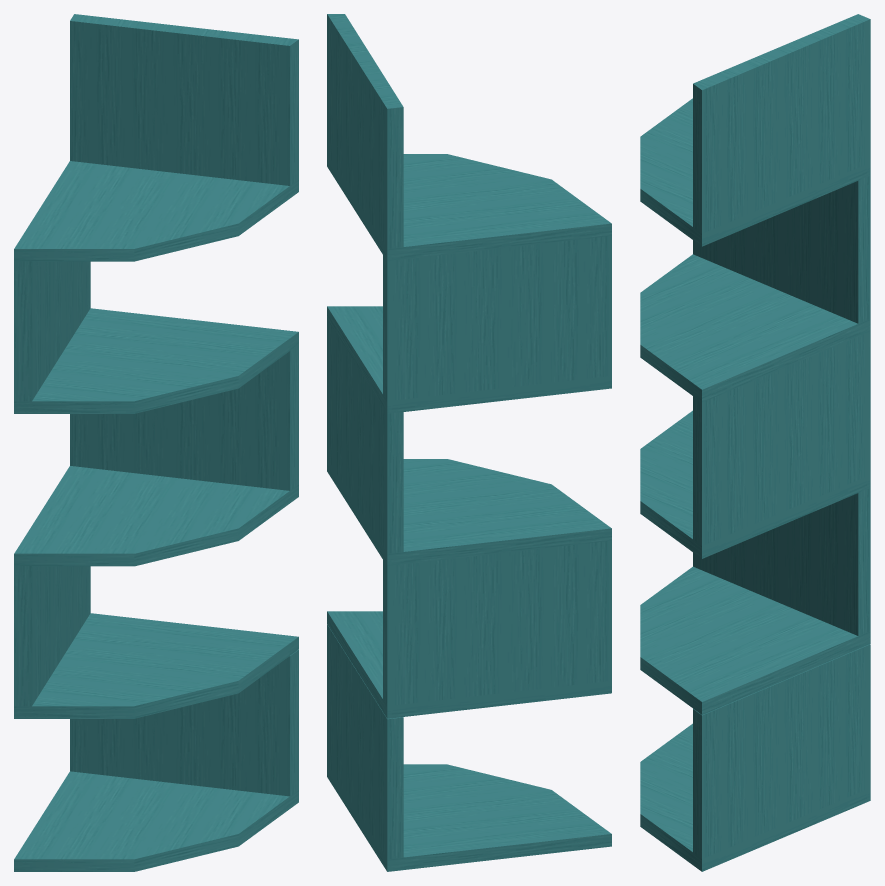
The model's file is Corner_Shelving_07.FBX.
3 renders of one model, left to right at view 1: azimuth 30°, elevation 25°; view 2: azimuth 150°, elevation 25°; view 3: azimuth 270°, elevation 25°, orthographic. The views are drawn at different scales.
Parts seen in each view (by area): view 1: Corner_Shelving; view 2: Corner_Shelving; view 3: Corner_Shelving.
Boxes of the visible parts, bbox=[...] form: Corner_Shelving: bbox=[14, 14, 298, 871]; Corner_Shelving: bbox=[327, 14, 611, 871]; Corner_Shelving: bbox=[640, 14, 870, 871].
Bounding box in the file's own units: 141 × 362 × 96.59.
